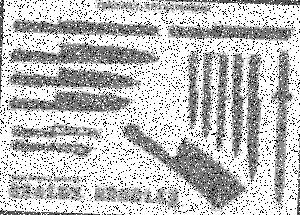knife: (123, 120, 245, 213), (266, 51, 298, 206), (11, 40, 162, 70), (1, 66, 143, 94), (4, 87, 132, 117), (166, 16, 296, 43), (6, 13, 158, 36), (244, 51, 264, 192), (9, 122, 107, 146), (0, 140, 98, 163), (179, 50, 202, 133), (196, 52, 216, 144), (212, 54, 228, 149), (230, 54, 242, 160)
